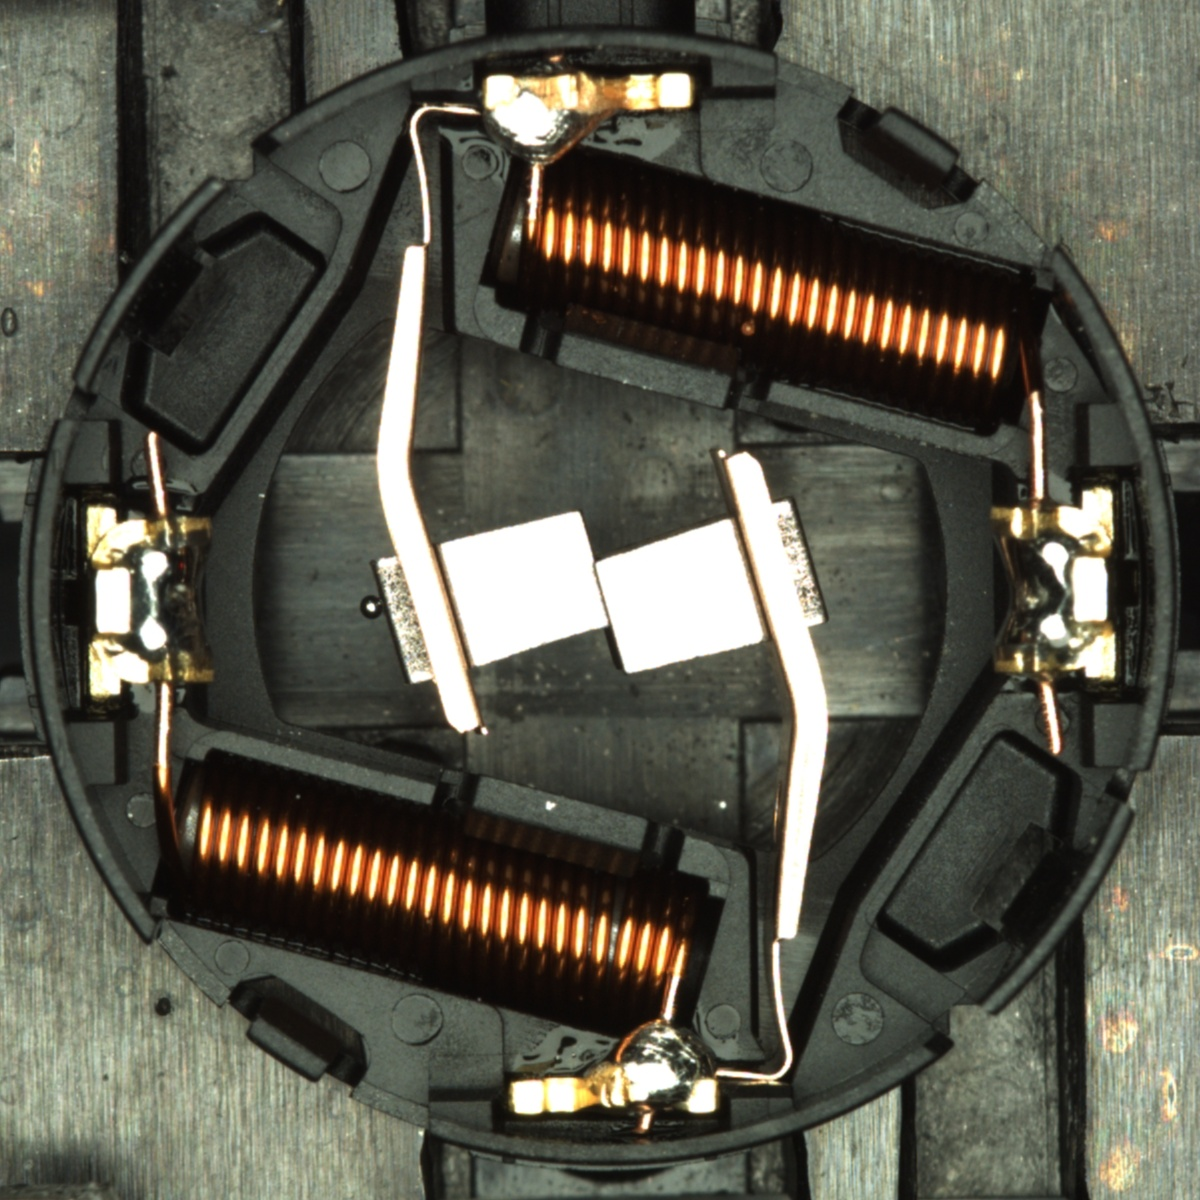1: (712, 928, 941, 1153), (253, 31, 482, 255)
2: (253, 928, 482, 1153), (712, 31, 941, 255)
3: (24, 255, 253, 479), (941, 704, 1170, 928)
4: (253, 255, 482, 479), (712, 704, 941, 928)
5: (482, 143, 712, 367), (482, 816, 712, 1040)
6: (712, 255, 941, 479), (253, 704, 482, 928)
7: (941, 255, 1170, 479), (24, 704, 253, 928)
cacbon: (394, 498, 800, 685)
chau_dien: (78, 499, 219, 701), (983, 487, 1123, 686)
hat_chi: (359, 595, 383, 620)
tay_choi: (479, 71, 698, 173), (508, 1018, 721, 1118)
thanh_de: (953, 787, 1141, 1031), (59, 164, 245, 405)
